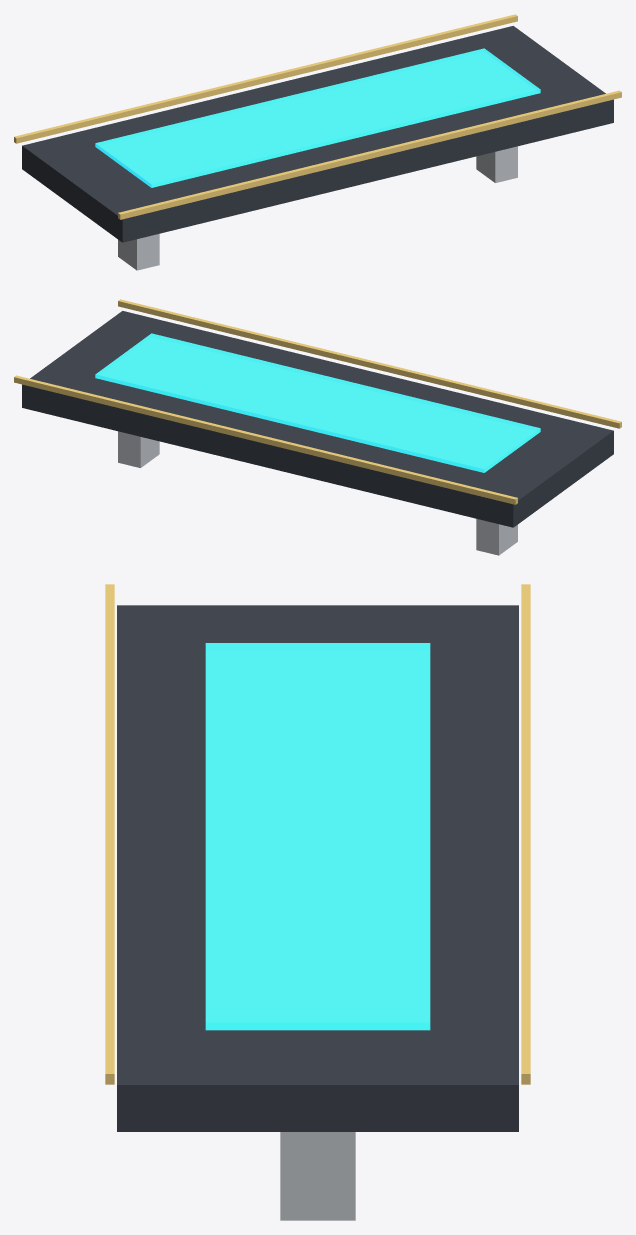
The model's file is boardroom_table.glb.
The picture shows the model from 3 angles, top to bottom: view 1: azimuth 30°, elevation 25°; view 2: azimuth 150°, elevation 25°; view 3: azimuth 270°, elevation 25°; orthographic projection. The views are drawn at different scales.
Visible parts, largest first — view 1: main_table, inner_light, front_trim, back_trim, left_leg, right_leg; view 2: main_table, inner_light, back_trim, front_trim, left_leg, right_leg; view 3: main_table, inner_light, right_leg, front_trim, back_trim.
Part boxes in pixels (x1,y1,x2,y2): main_table: (22,26,613,242); inner_light: (95,48,540,187); front_trim: (118,90,621,219); back_trim: (14,14,517,143); left_leg: (118,234,159,270); right_leg: (476,146,517,182); main_table: (22,311,613,527); inner_light: (95,333,540,472); back_trim: (14,375,517,504); front_trim: (118,299,621,428); left_leg: (476,519,517,555); right_leg: (118,431,159,467); main_table: (117,605,518,1131); inner_light: (205,643,430,1030); right_leg: (280,1132,355,1220); front_trim: (105,584,114,1084); back_trim: (521,584,530,1084).
Bounding box in the file's own units: 4.9 × 0.96 × 1.8.
